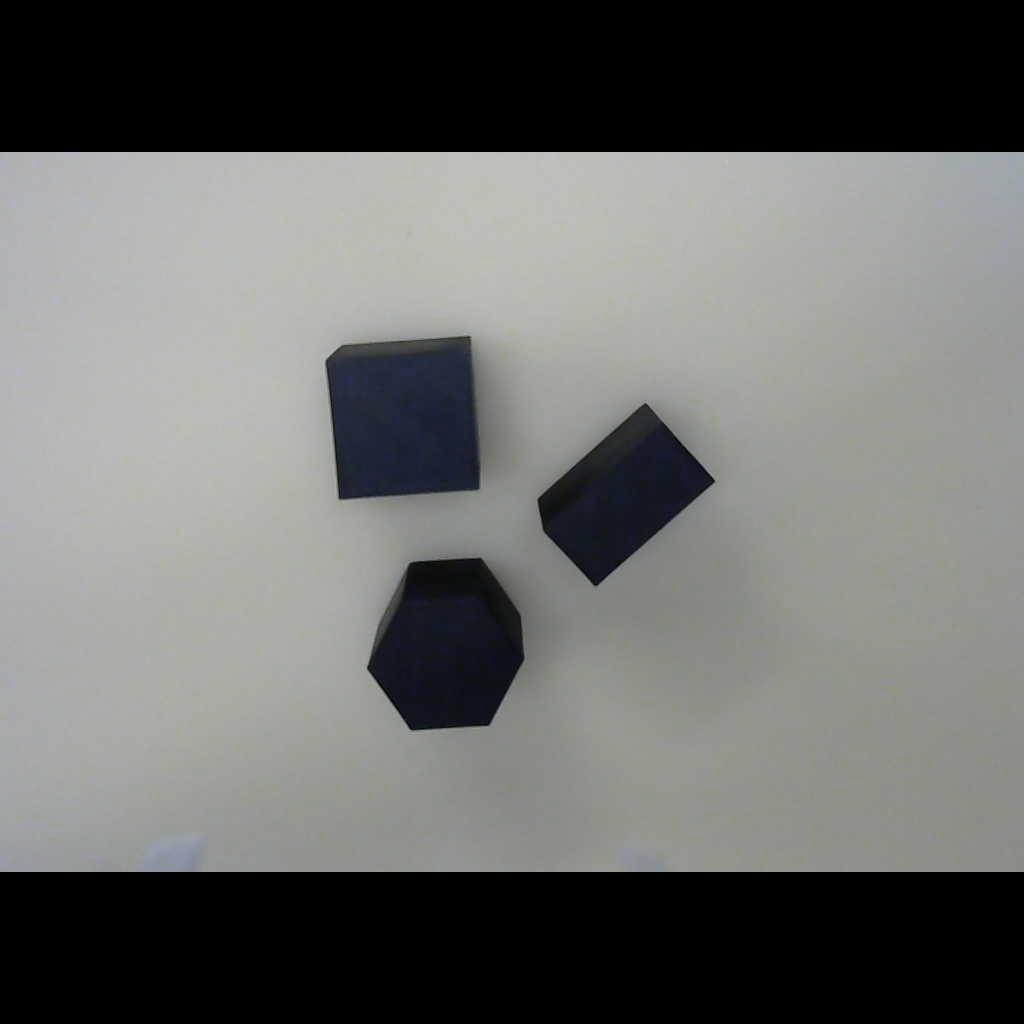hexagon: (349, 541, 548, 745)
rectangle: (510, 387, 728, 601)
square: (313, 322, 499, 514)
